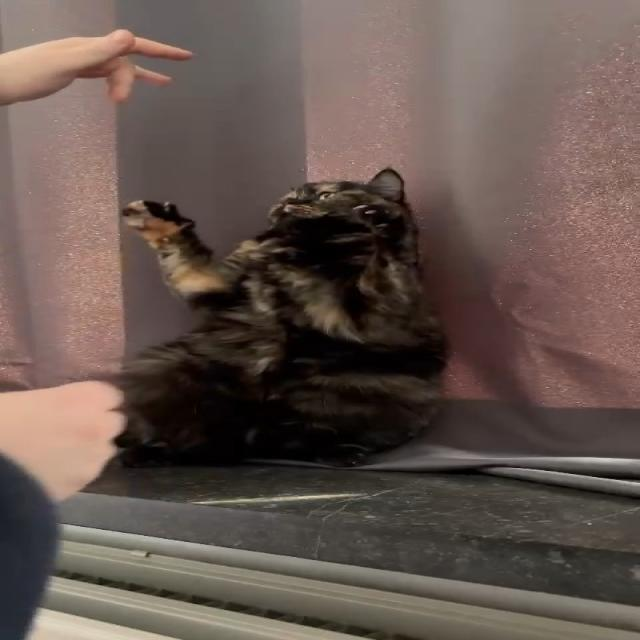authorized: (108, 166, 452, 469)
